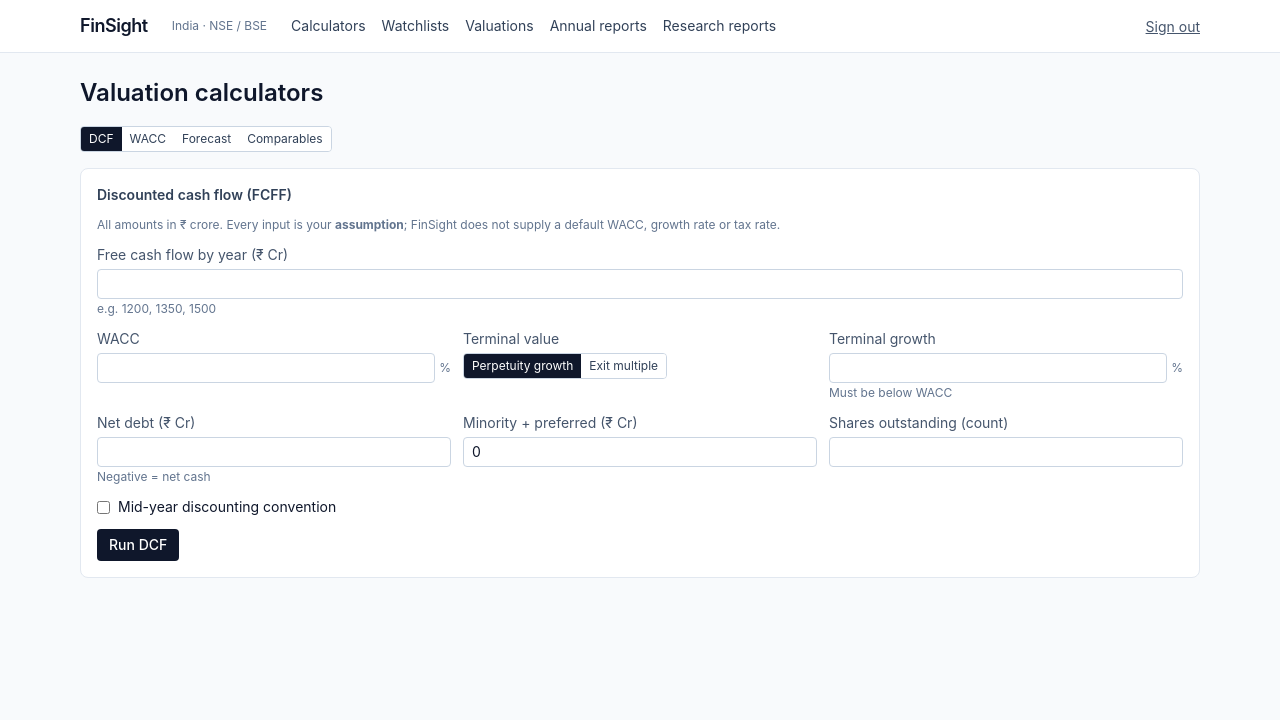
DCF calculator › sends exact decimal strings in ₹ crore and shows the result with warnings
This screenshot has width=1280, height=720.
Type "100, 110, 121" into the field labelled "Free cash flow by year (₹ Cr)" at [640, 284], box [97,269,1183,299]
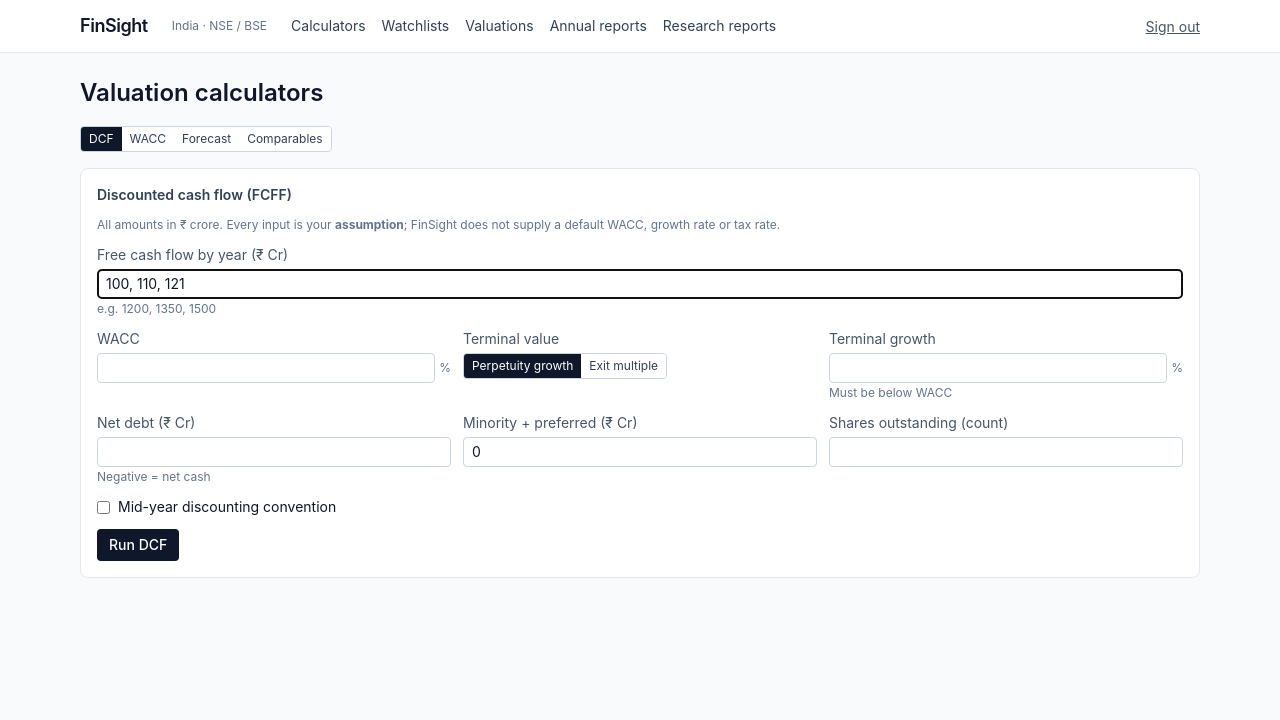
Type "10" into the field labelled "WACC" at [266, 368], box [97,353,435,383]
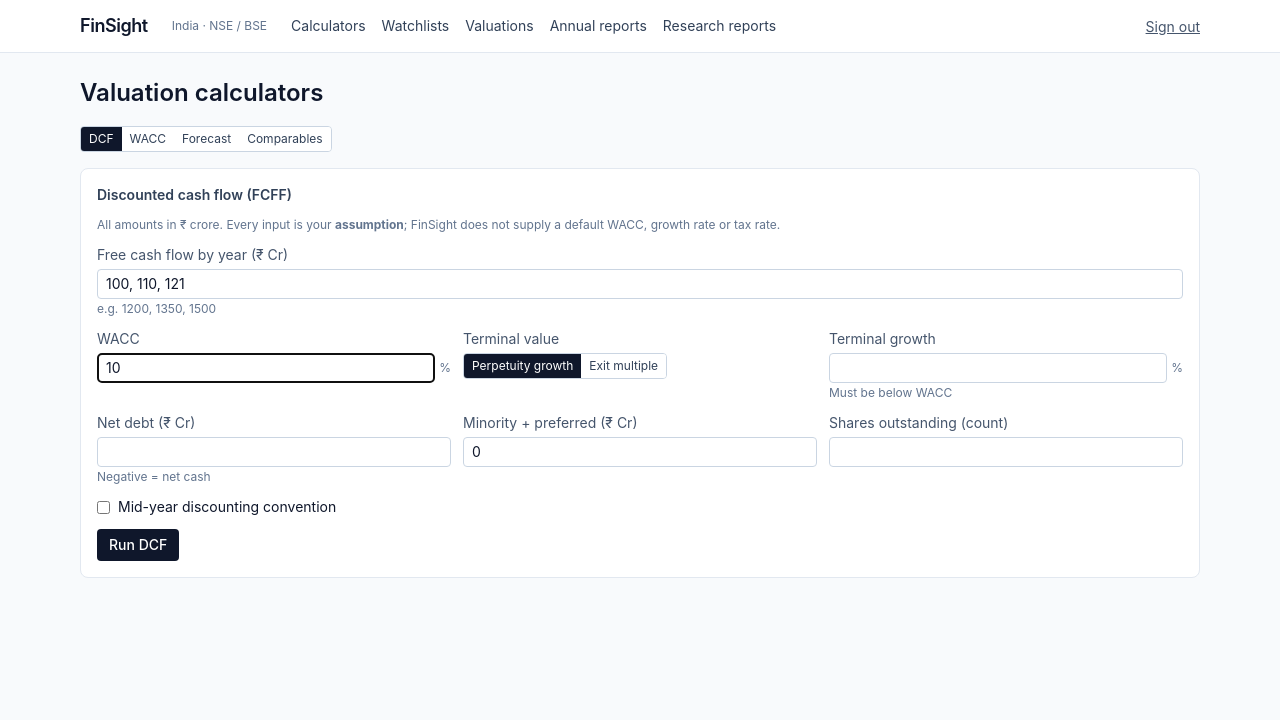
Type "2" into the field labelled "Terminal growth" at [998, 368], box [829,353,1167,383]
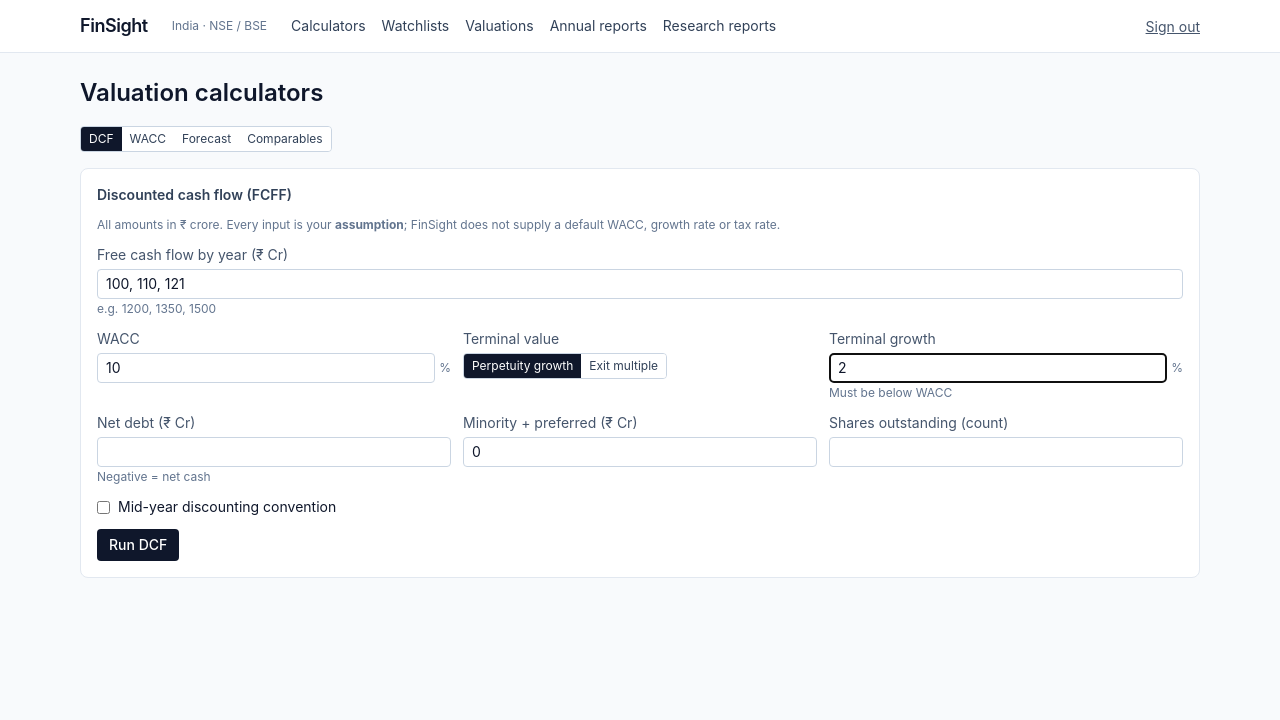
Type "200" into the field labelled "Net debt (₹ Cr)" at [274, 452], box [97,437,451,467]
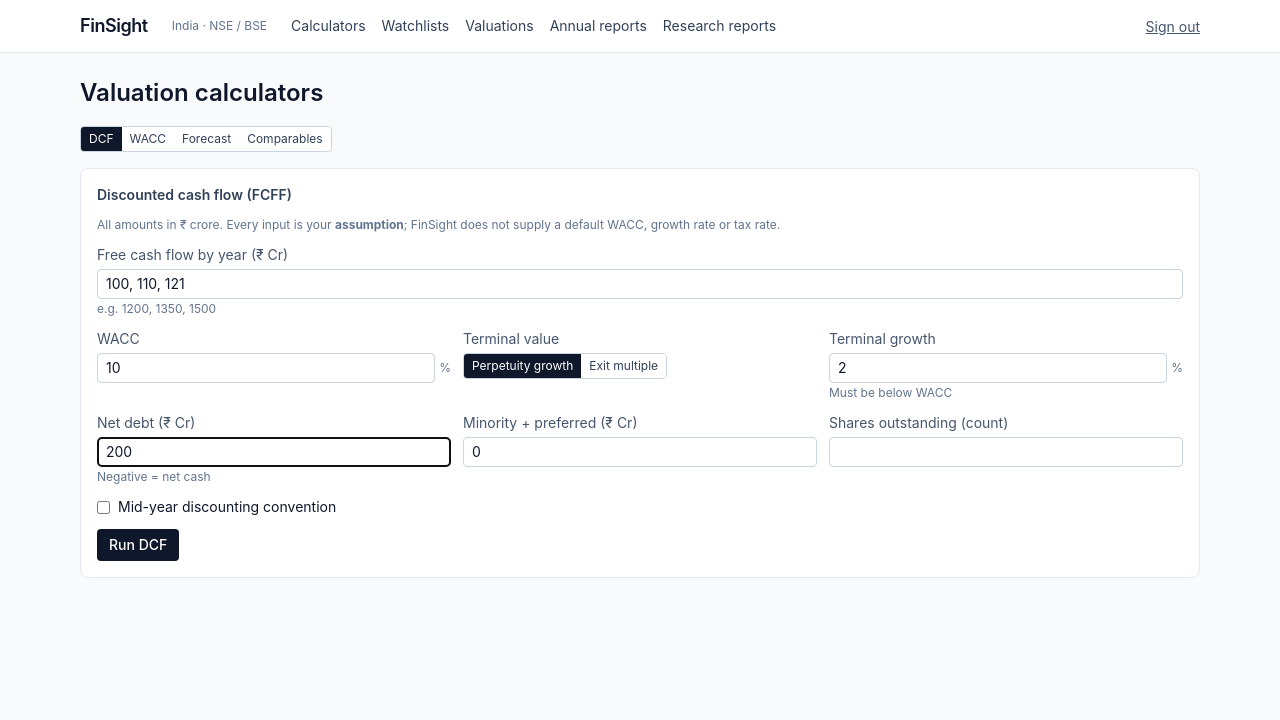
Type "100000000" into the field labelled "Shares outstanding (count)" at [1006, 452], box [829,437,1183,467]
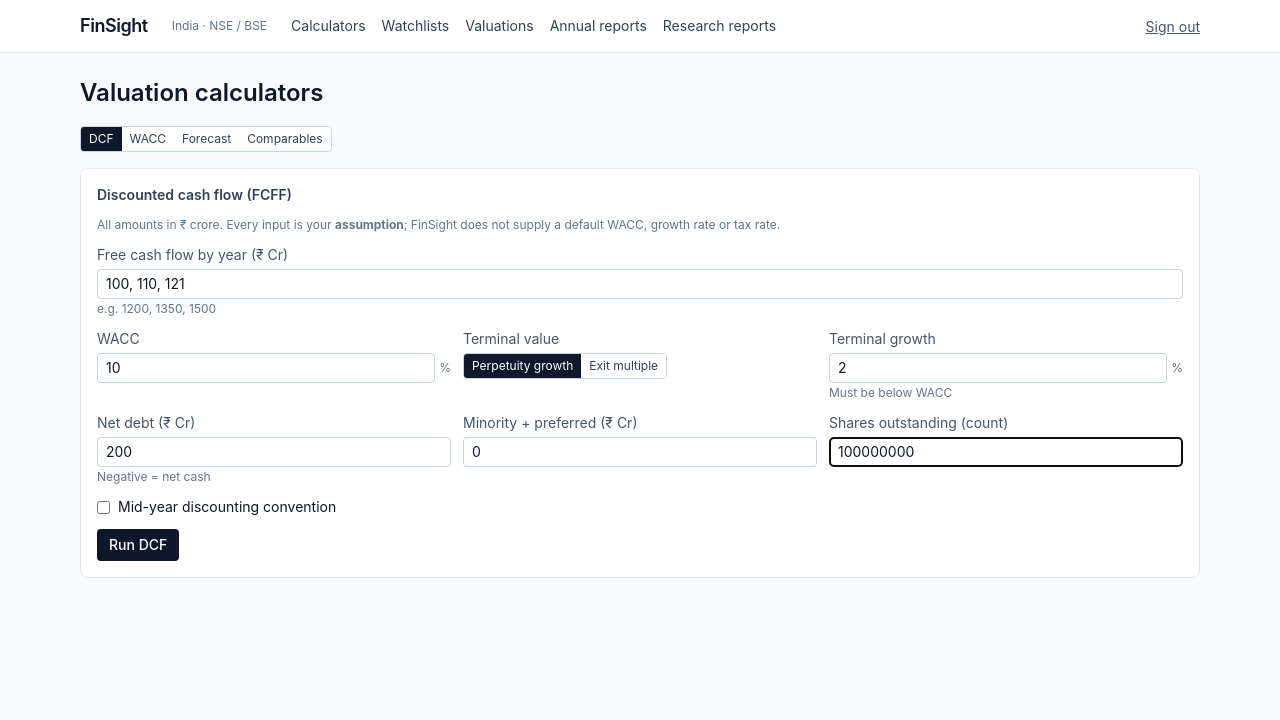
Click the button "Run DCF" at [138, 545], box [97,529,179,561]
(page scrolled)
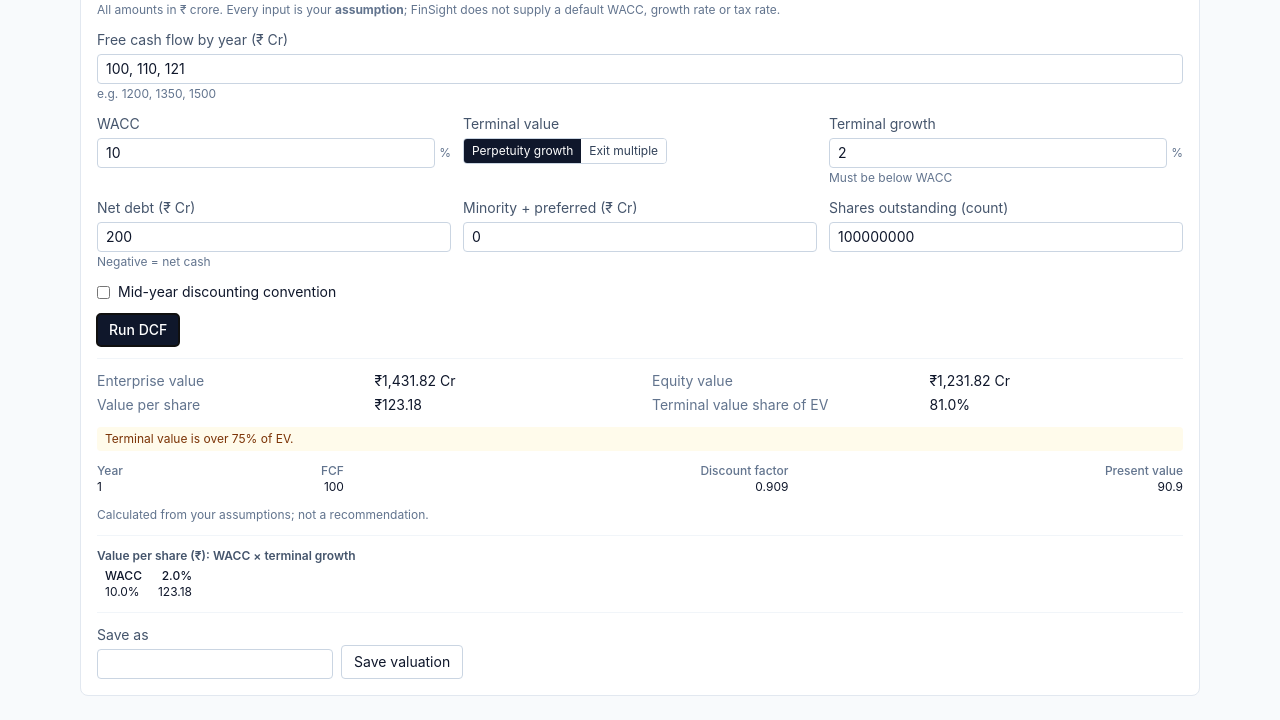
Expected: the text with test id "dcf-per-share" reads "₹123.18", [374,396,422,413]
Expected: the text "Terminal value is over 75% of EV." is shown, [97,427,1183,451]
Expected: the table named "Sensitivity table" is shown, [97,568,200,600]
